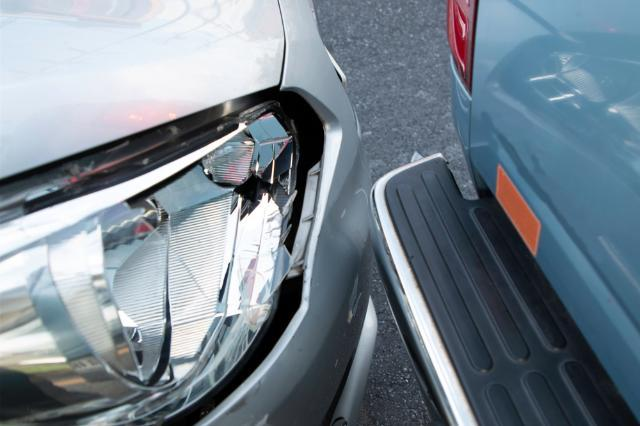lamp broken: (0, 107, 306, 426)
